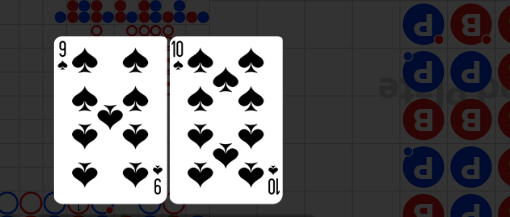10S: (266, 163, 280, 196)
9S: (56, 40, 69, 73)
